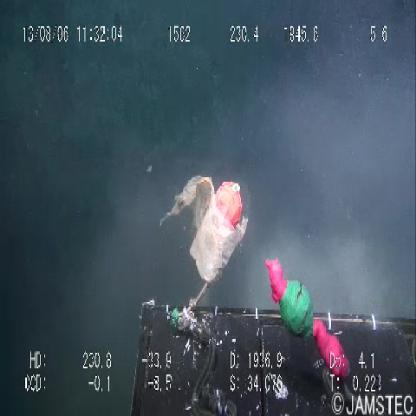Rov: (129, 276, 415, 414)
Rác: (155, 163, 258, 288)
